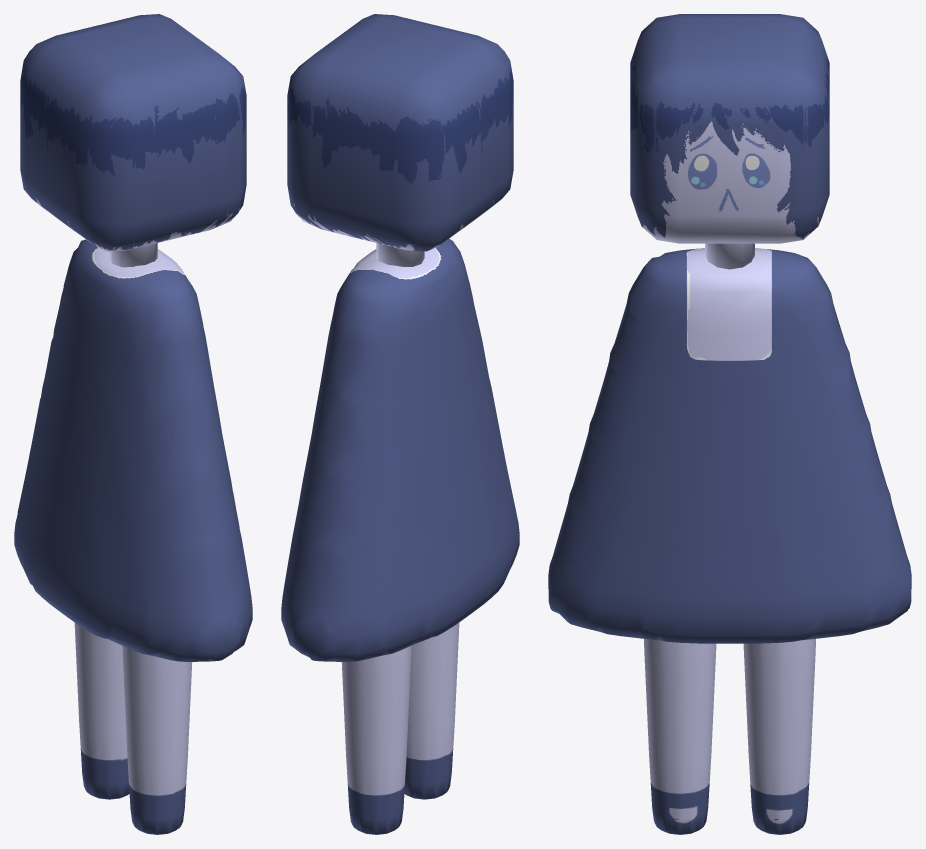
Rendered from mobChara_painted1.fbx.
3 renders of one model, left to right at view 1: azimuth 30°, elevation 25°; view 2: azimuth 150°, elevation 25°; view 3: azimuth 270°, elevation 25°, orthographic. The views are drawn at different scales.
Visible parts, largest first — view 1: mobChara1; view 2: mobChara1; view 3: mobChara1.
Part boxes in pixels (bbox=[...]): mobChara1: bbox=[14, 14, 252, 834]; mobChara1: bbox=[281, 14, 519, 834]; mobChara1: bbox=[548, 14, 911, 834].
Size of the model in its own units: 100 by 436 by 182.
Materials: 2 (2 with a texture image).
